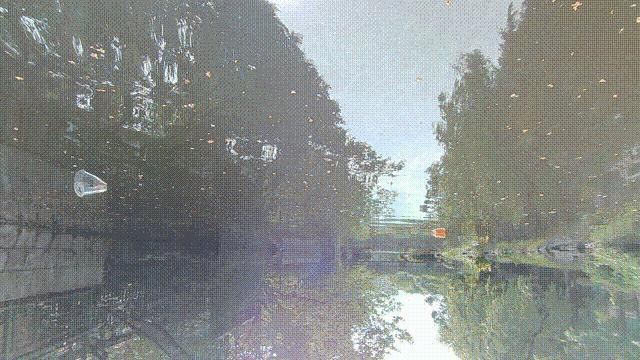Plastic: (71, 169, 109, 201), (432, 229, 447, 240), (582, 242, 596, 249), (472, 238, 479, 247)
